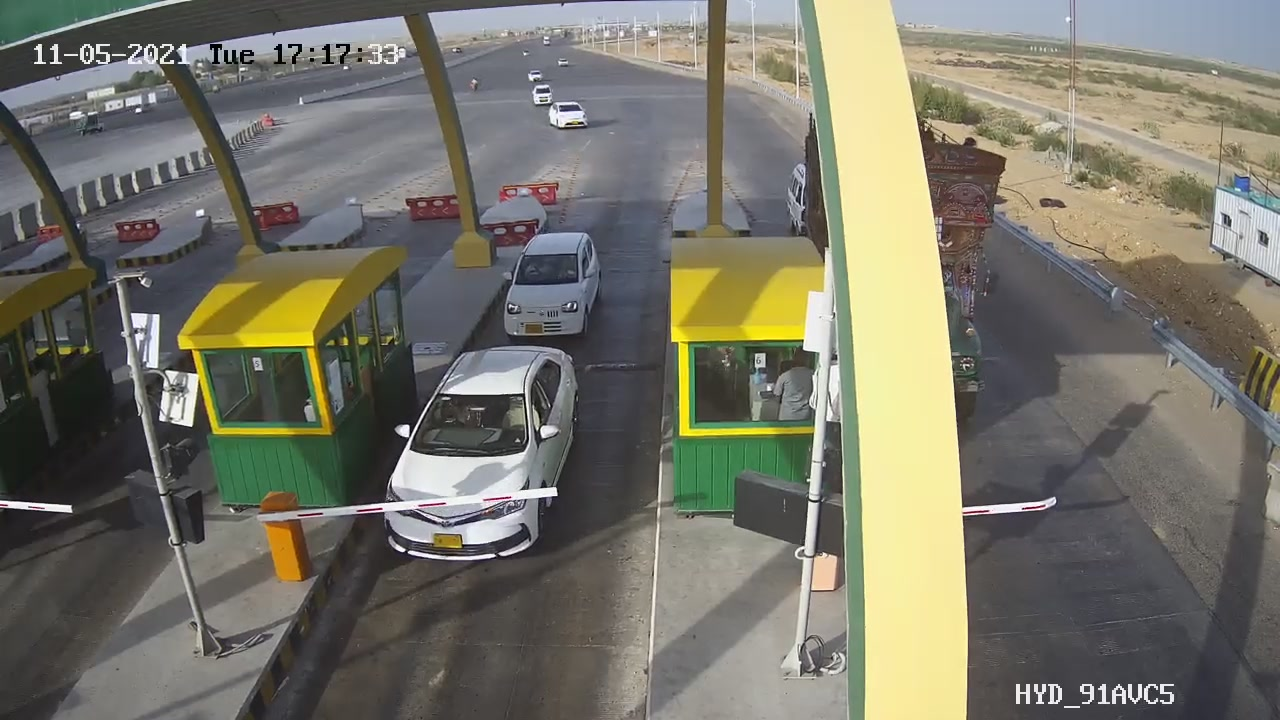F1: (369, 334, 598, 581), (485, 220, 621, 352)
